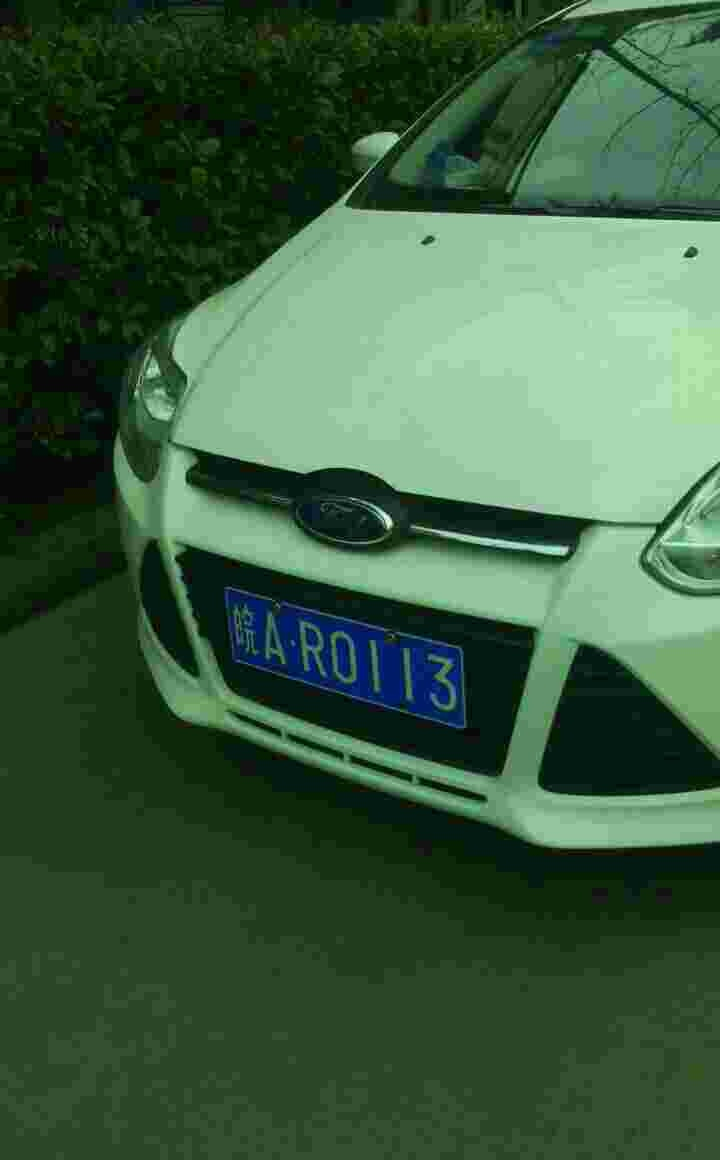license_plate: (223, 583, 470, 730)
